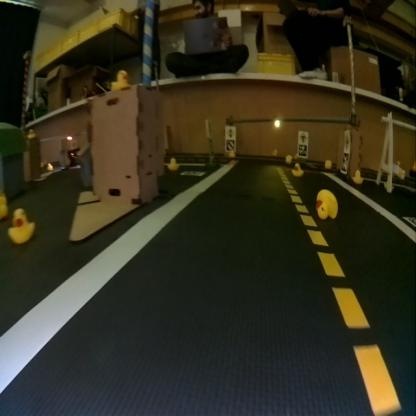Duckie: (8, 208, 34, 242), (316, 189, 336, 217), (110, 70, 127, 88), (352, 170, 362, 184), (292, 163, 302, 176), (167, 158, 177, 168), (324, 160, 330, 168), (27, 128, 33, 136), (286, 154, 290, 160)
Intersection sign: (344, 132, 349, 148), (298, 132, 306, 142)
QR code: (340, 152, 348, 172), (182, 169, 204, 175), (225, 138, 234, 150), (298, 143, 306, 156)
Signal sign: (226, 127, 233, 135)
